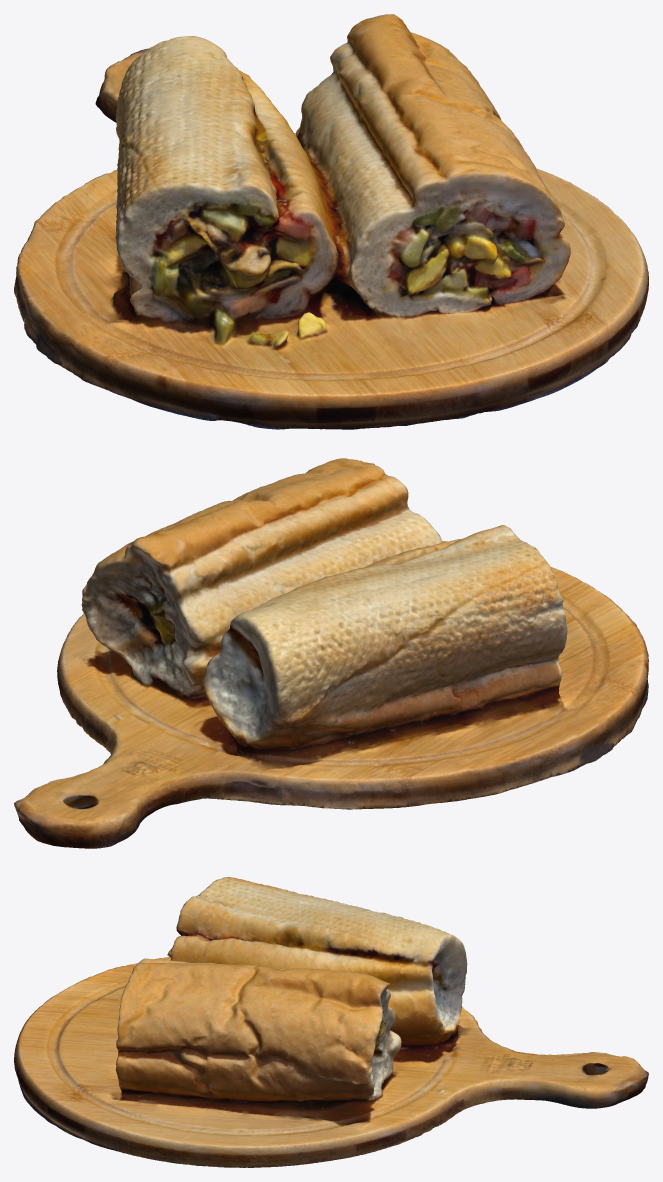
File: Sandwich.jooje.lokht.glb
3 views of the same model, one above another, from view 1: azimuth 30°, elevation 25°; view 2: azimuth 150°, elevation 25°; view 3: azimuth 270°, elevation 25° (orthographic). The views are drawn at different scales.
Visible parts, largest first — view 1: 3DModel; view 2: 3DModel; view 3: 3DModel.
Boxes of the visible parts, x1=… form: 3DModel: x1=14, y1=14, x2=648, y2=429; 3DModel: x1=14, y1=458, x2=648, y2=848; 3DModel: x1=14, y1=877, x2=648, y2=1167.
Bounding box in the file's own units: 0.3614 × 0.1187 × 0.4837.
Materials: 1 (1 with a texture image).
